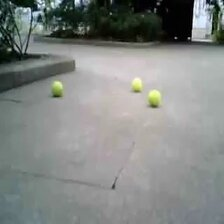tennis: (147, 91, 161, 107), (130, 77, 142, 92), (51, 81, 62, 94)
